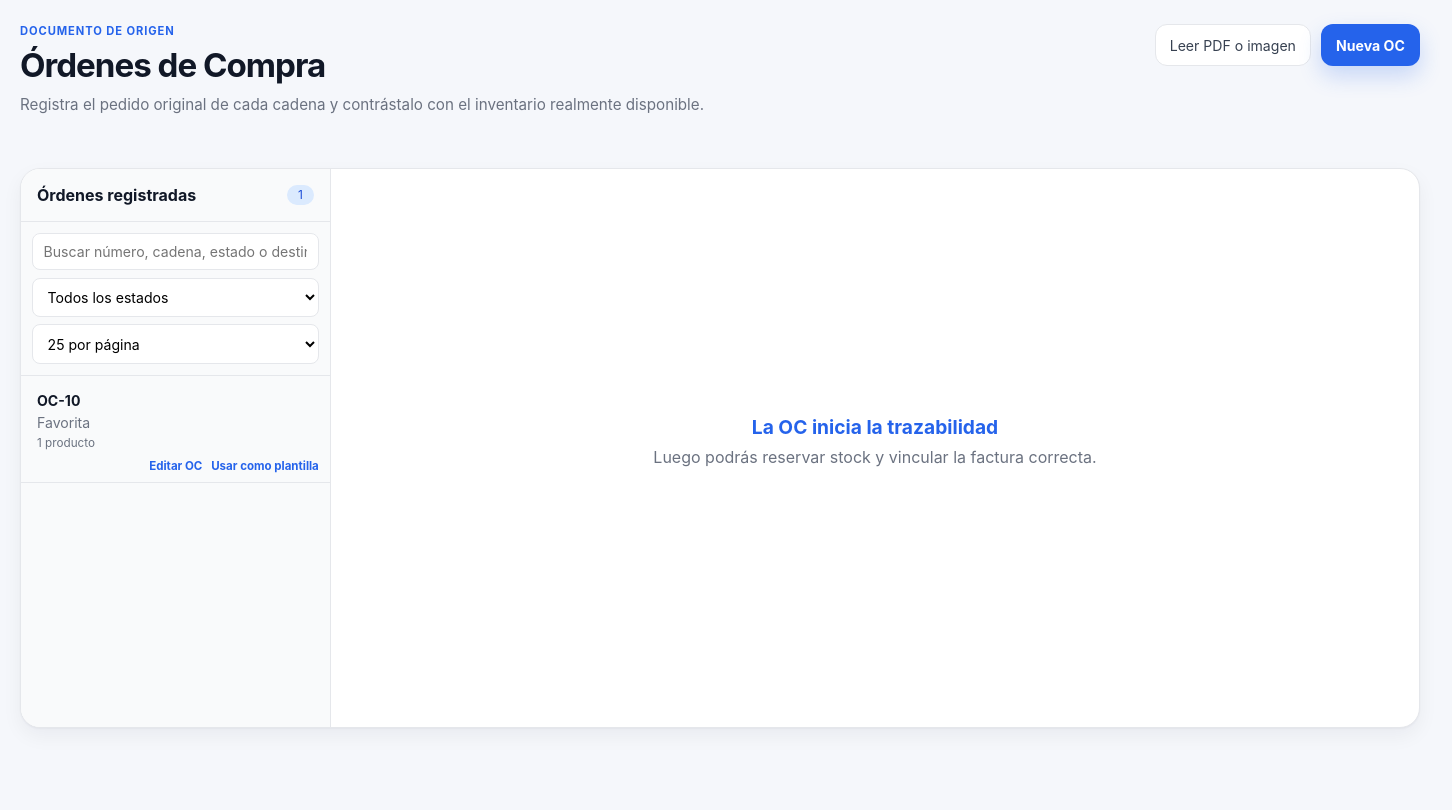
Scenario: PurchaseOrderCenter › abre una OC existente en el formulario y permite cancelar sin guardar
The image size is (1452, 810).
Expected: the text "OC-10" is shown, [37,392,80,409]
Step 1. Click the button "Editar OC" → (176, 466), box [149,456,202,476]
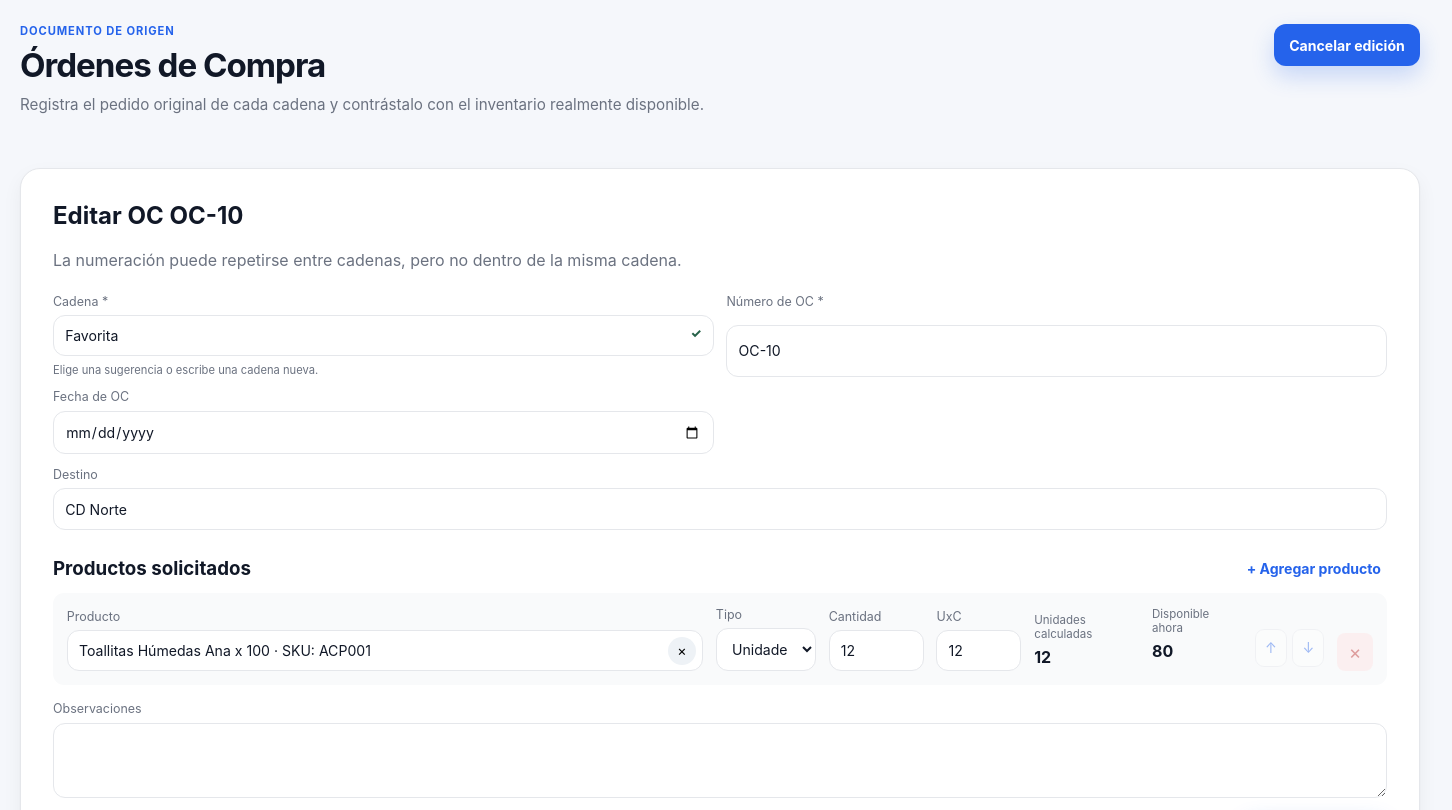
Now the heading "Editar OC OC-10" is shown, box [53,201,244,230]
Now the field labelled "Número de OC *" holds "OC-10", box [726,325,1387,377]
Now the dropdown labelled "Producto" holds "Toallitas Húmedas Ana x 100 · SKU: ACP001", box [67,630,703,671]
Step 2. Replace the text in the field labelled "Destino" with "Destino temporal" → (720, 509), box [53,488,1387,530]
(page scrolled)
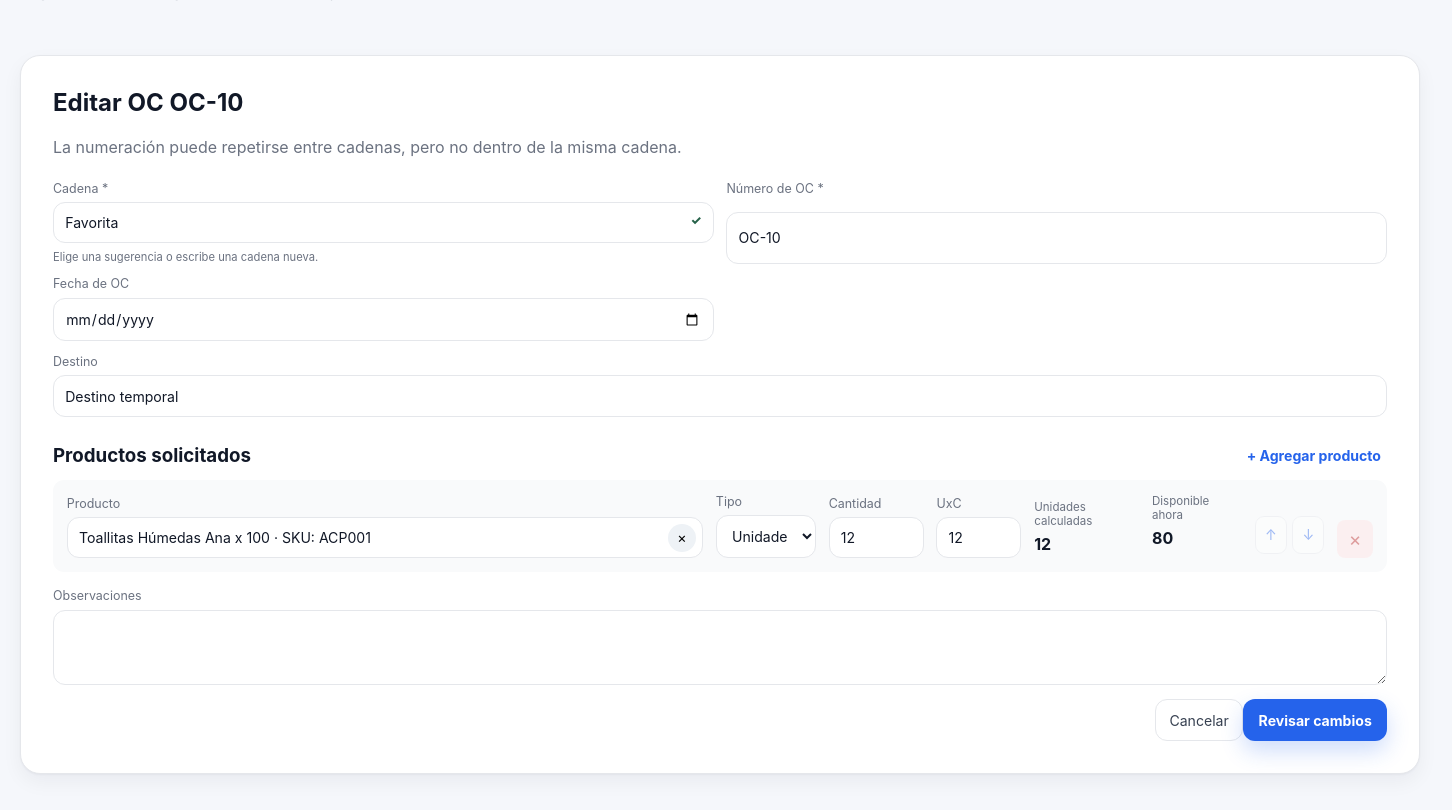
Step 3. Click the button "Cancelar" → (1199, 720), box [1155,699,1243,741]
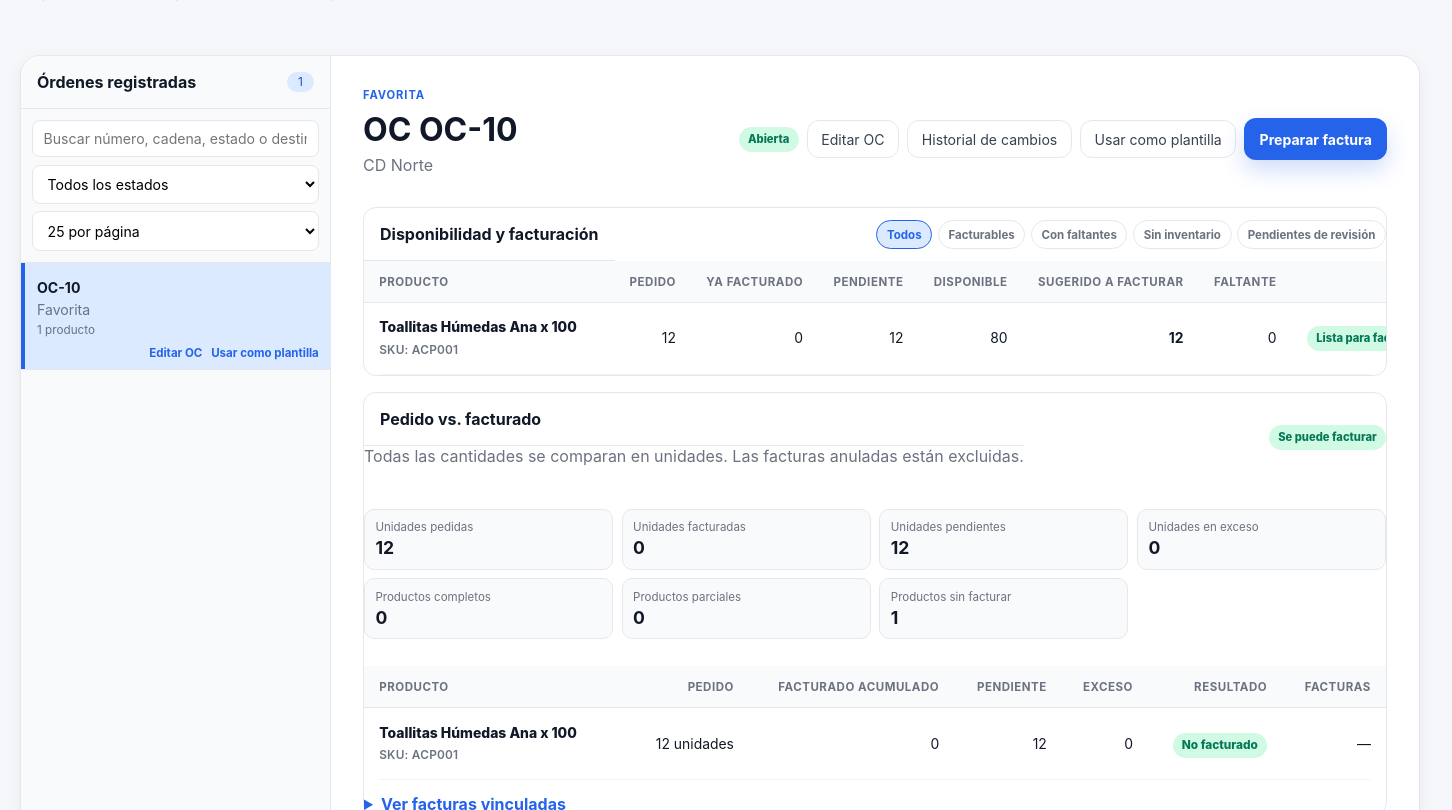
Now the heading "OC OC-10" is shown, box [363,110,518,149]
Now the text "CD Norte" is shown, box [363,155,433,175]
